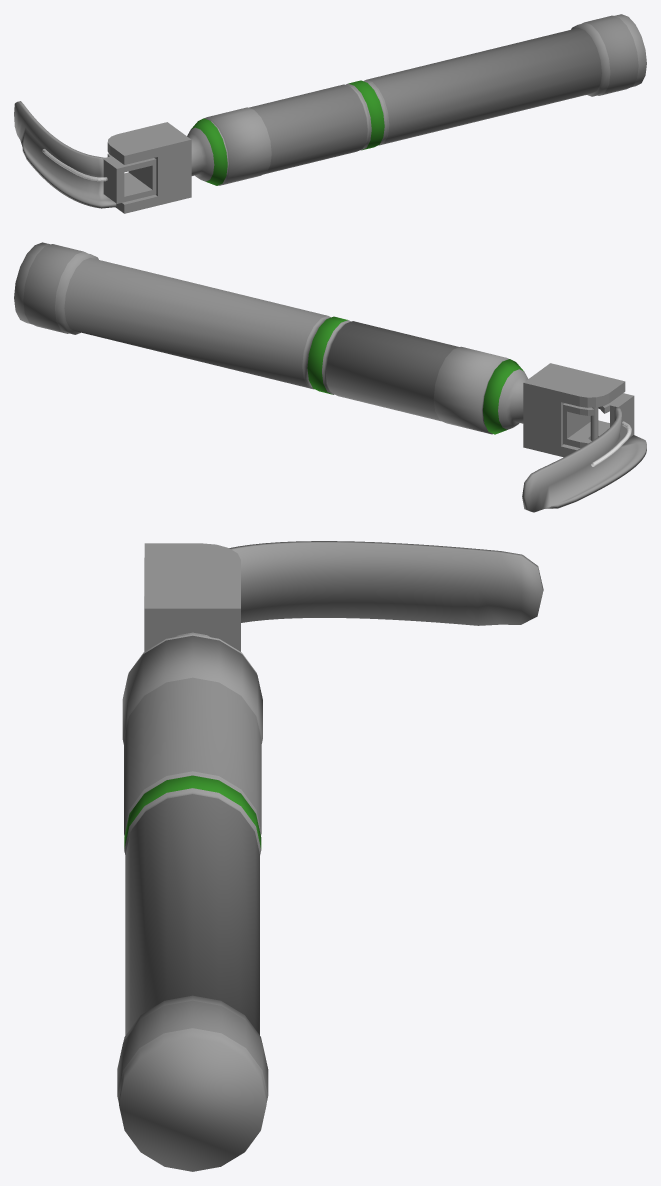
The picture shows the model from 3 angles, top to bottom: view 1: azimuth 30°, elevation 25°; view 2: azimuth 150°, elevation 25°; view 3: azimuth 270°, elevation 25°; orthographic projection. The views are drawn at different scales.
Parts seen in each view (by area): view 1: DX-51; view 2: DX-51; view 3: DX-51.
Part boxes in pixels (box(x1,y1,x2,y2)): DX-51: box(14, 14, 646, 213); DX-51: box(14, 242, 646, 512); DX-51: box(117, 541, 543, 1171).
Size of the model in its own units: 15.86 by 1.88 by 5.31.
